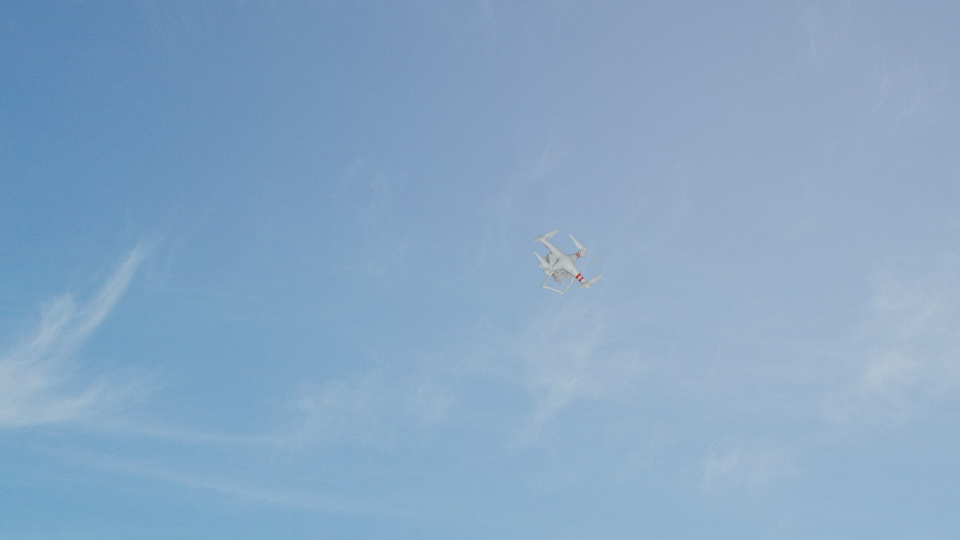drone: (535, 227, 600, 293)
